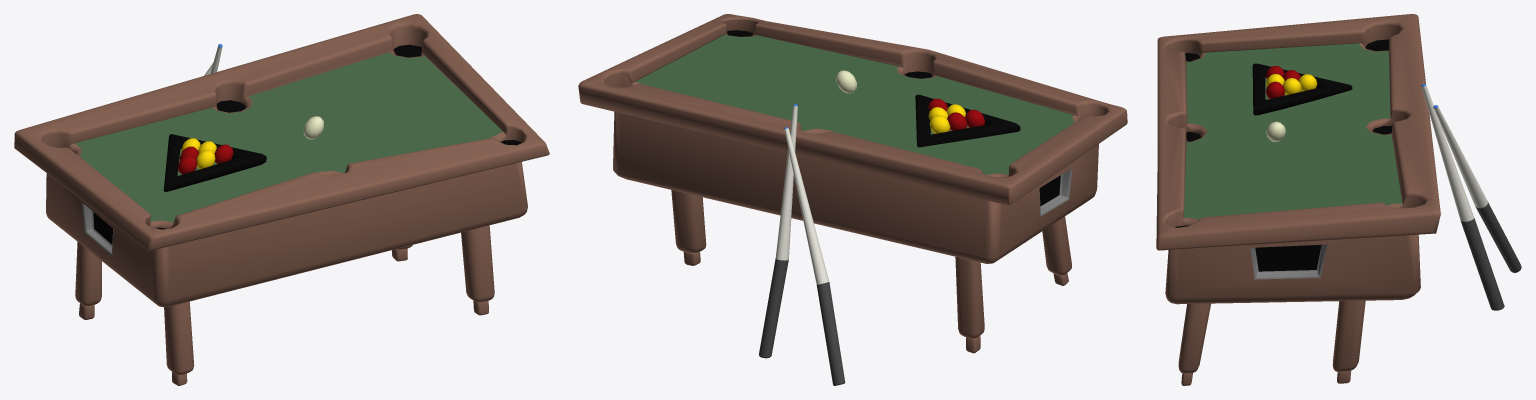
Rendered from props_billard.fbx.
The picture shows the model from 3 angles, left to right: view 1: azimuth 30°, elevation 25°; view 2: azimuth 150°, elevation 25°; view 3: azimuth 270°, elevation 25°; orthographic projection. The views are drawn at different scales.
Parts seen in each view (by area): view 1: grand horizontal.007; view 2: grand horizontal.007; view 3: grand horizontal.007.
Part boxes in pixels (<box>): grand horizontal.007: <box>14,14,549,385</box>; grand horizontal.007: <box>578,14,1127,385</box>; grand horizontal.007: <box>1156,14,1521,385</box>.
Bounding box in the file's own units: 269 × 138 × 198.
